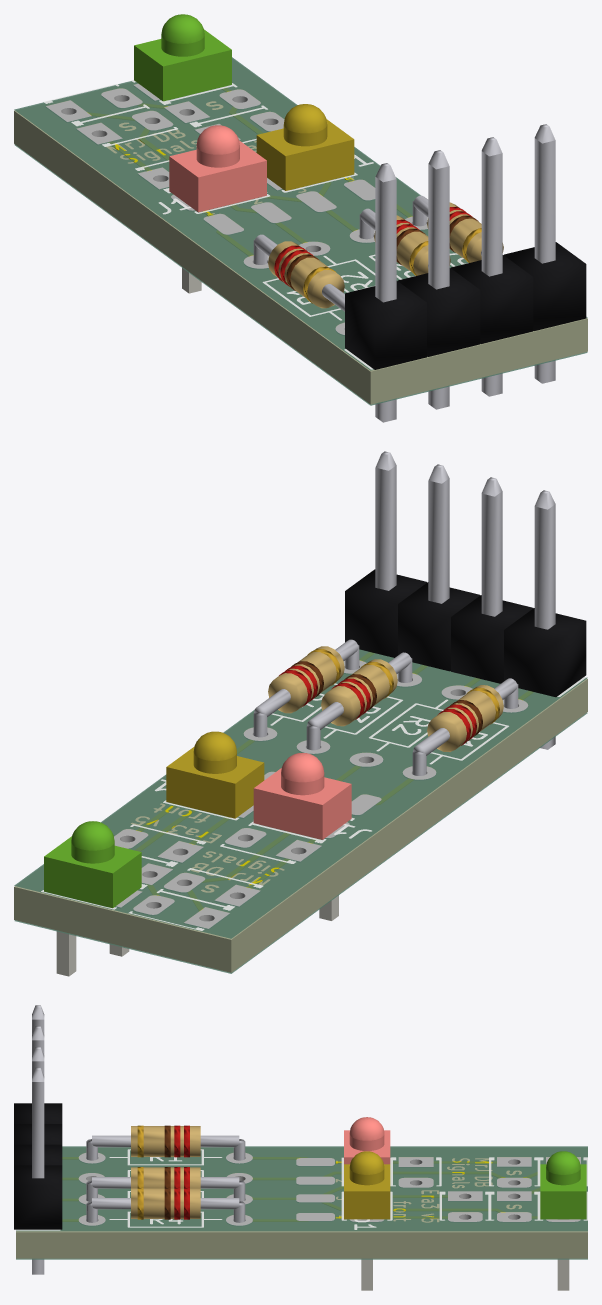
The model's file is MrJ-DB-Era3-breadboard-entry-Hp0.glb.
The picture shows the model from 3 angles, top to bottom: view 1: azimuth 30°, elevation 25°; view 2: azimuth 150°, elevation 25°; view 3: azimuth 270°, elevation 25°; orthographic projection. The views are drawn at different scales.
Visible parts, largest first — view 1: =>[0:1:1:17], =>[0:1:1:3] (×4), =>[0:1:1:15], =>[0:1:1:5] (×3), =>[0:1:1:13], =>[0:1:1:9], =>[0:1:1:11], =>[0:1:1:7], =>[0:1:1:14], =>[0:1:1:12], =>[0:1:1:16]; view 2: =>[0:1:1:17], =>[0:1:1:15], =>[0:1:1:3] (×4), =>[0:1:1:5] (×3), =>[0:1:1:13], =>[0:1:1:11], =>[0:1:1:9], =>[0:1:1:7], =>[0:1:1:14], =>[0:1:1:12], =>[0:1:1:16]; view 3: =>[0:1:1:17], =>[0:1:1:15], =>[0:1:1:5] (×3), =>[0:1:1:3] (×4), =>[0:1:1:13], =>[0:1:1:11], =>[0:1:1:7], =>[0:1:1:14], =>[0:1:1:9], =>[0:1:1:12], =>[0:1:1:16].
Part boxes in pixels (bbox=[...]): =>[0:1:1:17]: bbox=[14, 59, 587, 404]; =>[0:1:1:3] (×4): bbox=[345, 124, 586, 422]; =>[0:1:1:15]: bbox=[14, 57, 587, 370]; =>[0:1:1:5] (×3): bbox=[253, 195, 503, 311]; =>[0:1:1:13]: bbox=[46, 83, 427, 335]; =>[0:1:1:9]: bbox=[169, 125, 266, 293]; =>[0:1:1:11]: bbox=[134, 14, 231, 101]; =>[0:1:1:7]: bbox=[256, 104, 354, 190]; =>[0:1:1:14]: bbox=[44, 80, 586, 369]; =>[0:1:1:12]: bbox=[87, 88, 412, 256]; =>[0:1:1:16]: bbox=[14, 144, 587, 405]; =>[0:1:1:17]: bbox=[14, 650, 587, 972]; =>[0:1:1:15]: bbox=[14, 649, 587, 938]; =>[0:1:1:3] (×4): bbox=[345, 451, 586, 749]; =>[0:1:1:5] (×3): bbox=[253, 639, 518, 775]; =>[0:1:1:13]: bbox=[114, 660, 527, 929]; =>[0:1:1:11]: bbox=[44, 821, 141, 976]; =>[0:1:1:9]: bbox=[253, 752, 351, 920]; =>[0:1:1:7]: bbox=[166, 731, 264, 818]; =>[0:1:1:14]: bbox=[41, 676, 586, 930]; =>[0:1:1:12]: bbox=[136, 652, 532, 910]; =>[0:1:1:16]: bbox=[14, 713, 587, 973]; =>[0:1:1:17]: bbox=[16, 1148, 587, 1258]; =>[0:1:1:15]: bbox=[16, 1146, 587, 1231]; =>[0:1:1:5] (×3): bbox=[86, 1125, 245, 1222]; =>[0:1:1:3] (×4): bbox=[14, 1005, 62, 1274]; =>[0:1:1:13]: bbox=[78, 1153, 580, 1225]; =>[0:1:1:11]: bbox=[540, 1151, 586, 1290]; =>[0:1:1:7]: bbox=[344, 1151, 390, 1290]; =>[0:1:1:14]: bbox=[16, 1149, 587, 1230]; =>[0:1:1:9]: bbox=[344, 1117, 390, 1164]; =>[0:1:1:12]: bbox=[63, 1157, 539, 1221]; =>[0:1:1:16]: bbox=[16, 1258, 587, 1259].
Bounding box in the file's own units: 0.0104 × 0.0127 × 0.0297.
